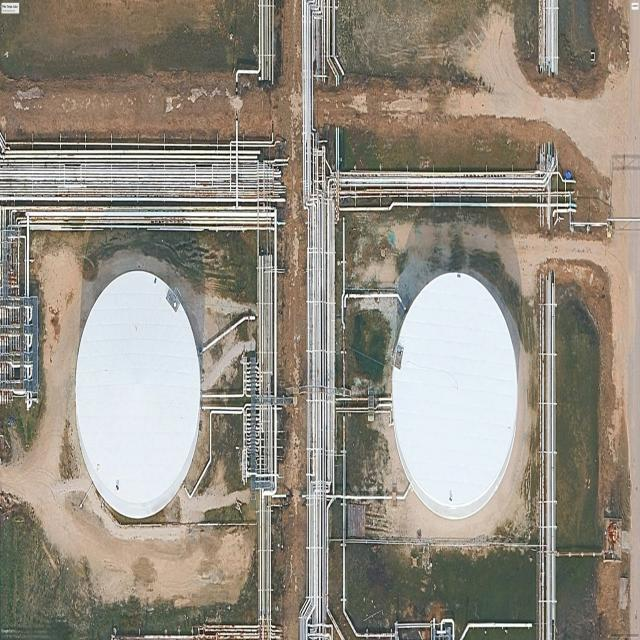Oil Rafinery: (75, 270, 201, 518), (392, 272, 518, 519)
